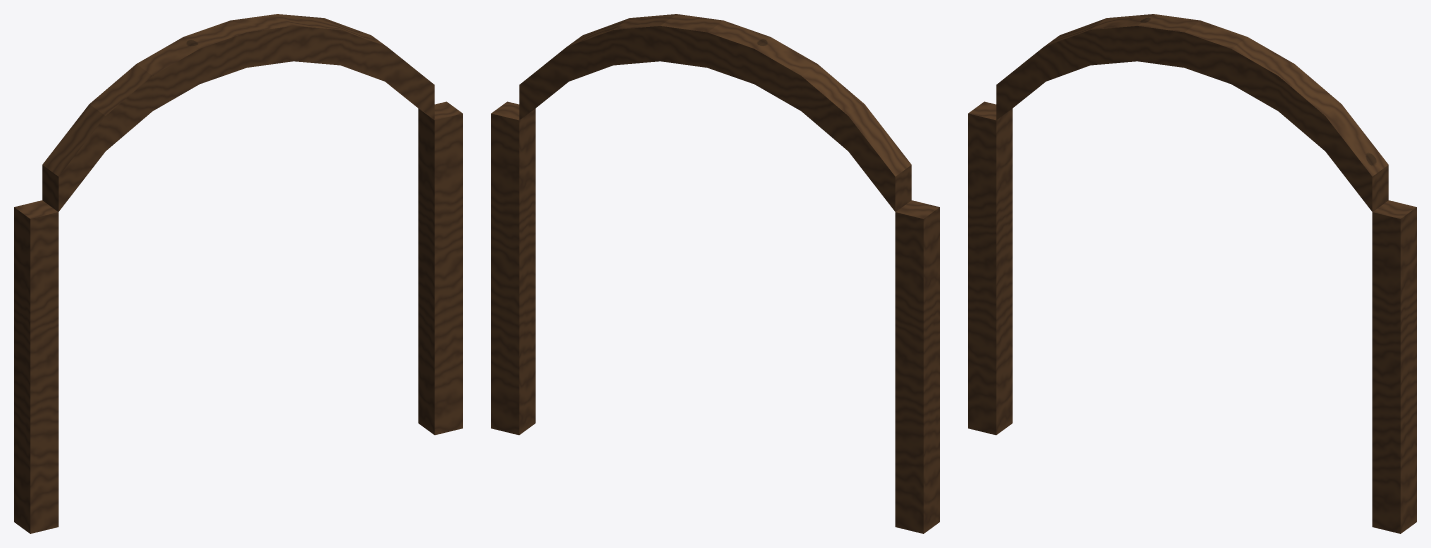
Rendered from arch_2m.glb.
3 renders of one model, left to right at view 1: azimuth 30°, elevation 25°; view 2: azimuth 150°, elevation 25°; view 3: azimuth 330°, elevation 25°, orthographic.
Parts seen in each view (by area): view 1: arch_2m_band, post_l, post_r; view 2: arch_2m_band, post_l, post_r; view 3: arch_2m_band, post_r, post_l.
Part boxes in pixels (x1,y1,x2,y2): arch_2m_band: (42, 14, 434, 211); post_l: (14, 200, 58, 533); post_r: (418, 101, 462, 434); arch_2m_band: (519, 14, 911, 211); post_l: (895, 200, 939, 533); post_r: (491, 101, 535, 434); arch_2m_band: (996, 14, 1388, 211); post_r: (1372, 200, 1416, 533); post_l: (968, 101, 1012, 434).
Size of the model in its own units: 2.3 by 2.28 by 0.15.
1 material, 1 textured.
